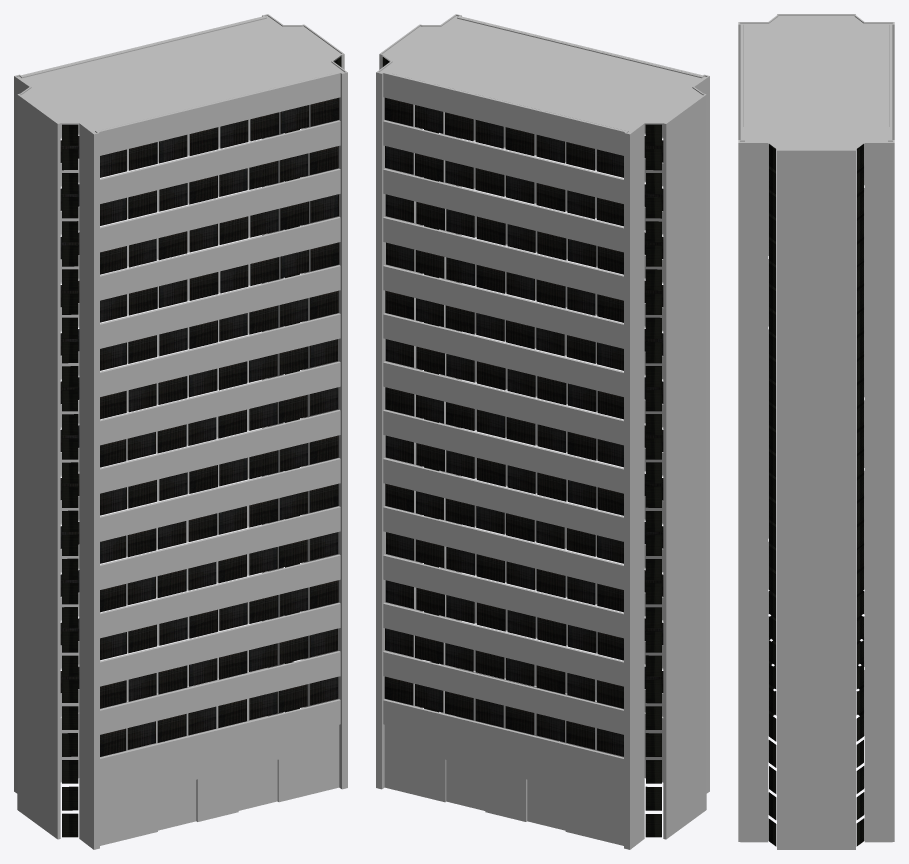
3 renders of one model, left to right at view 1: azimuth 30°, elevation 25°; view 2: azimuth 150°, elevation 25°; view 3: azimuth 270°, elevation 25°, orthographic. The views are drawn at different scales.
Visible parts, largest first — view 1: BC-087; view 2: BC-087; view 3: BC-087.
Part boxes in pixels (box(x1,y1,x2,y2)): BC-087: box(14, 14, 347, 849); BC-087: box(376, 14, 709, 849); BC-087: box(738, 14, 894, 849).
Size of what is drawn, in the model's own units: 18.67 by 44.5 by 9.
